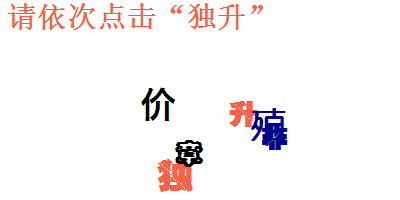text: (139, 85, 176, 123), (250, 106, 289, 142), (157, 158, 194, 194), (174, 138, 204, 168), (229, 100, 258, 131), (261, 124, 289, 151)
